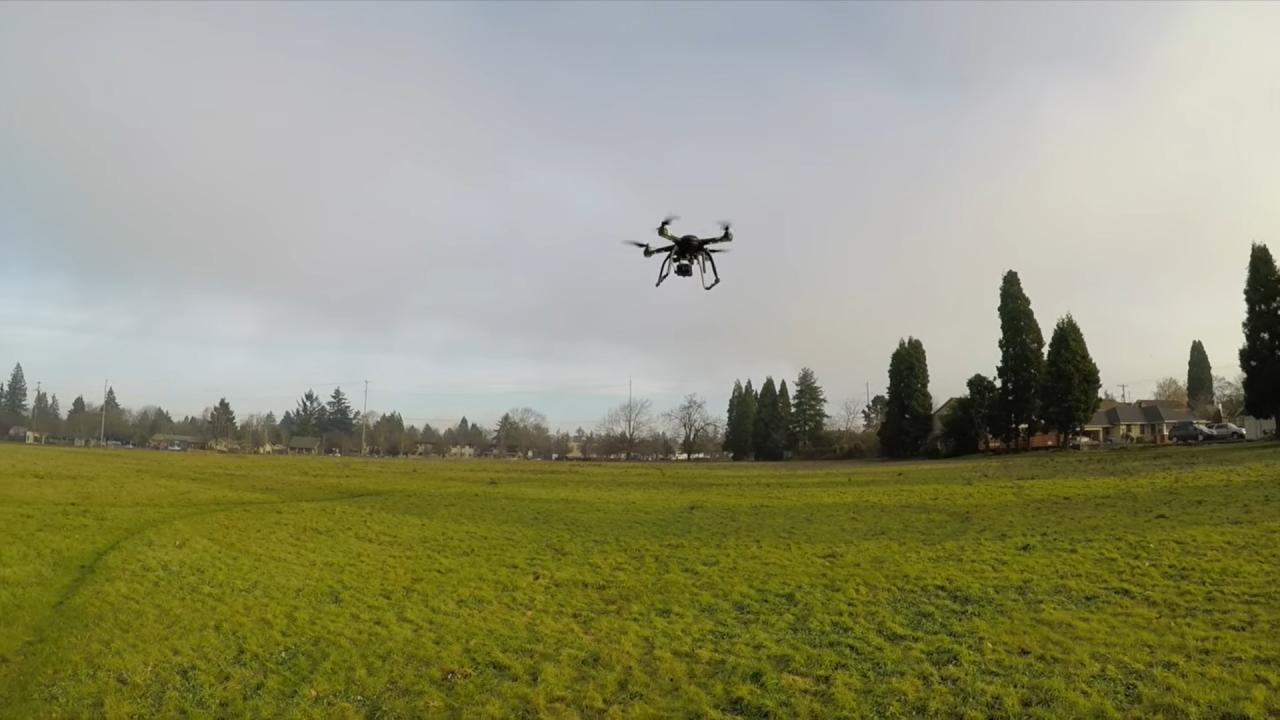Drone: (617, 210, 746, 298)
